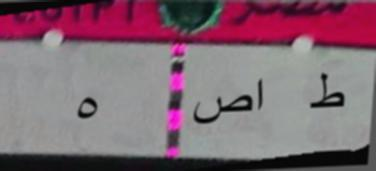5: (68, 94, 105, 128)
Taa: (309, 73, 346, 118)
alif: (256, 78, 269, 111)
saad: (192, 90, 252, 128)
